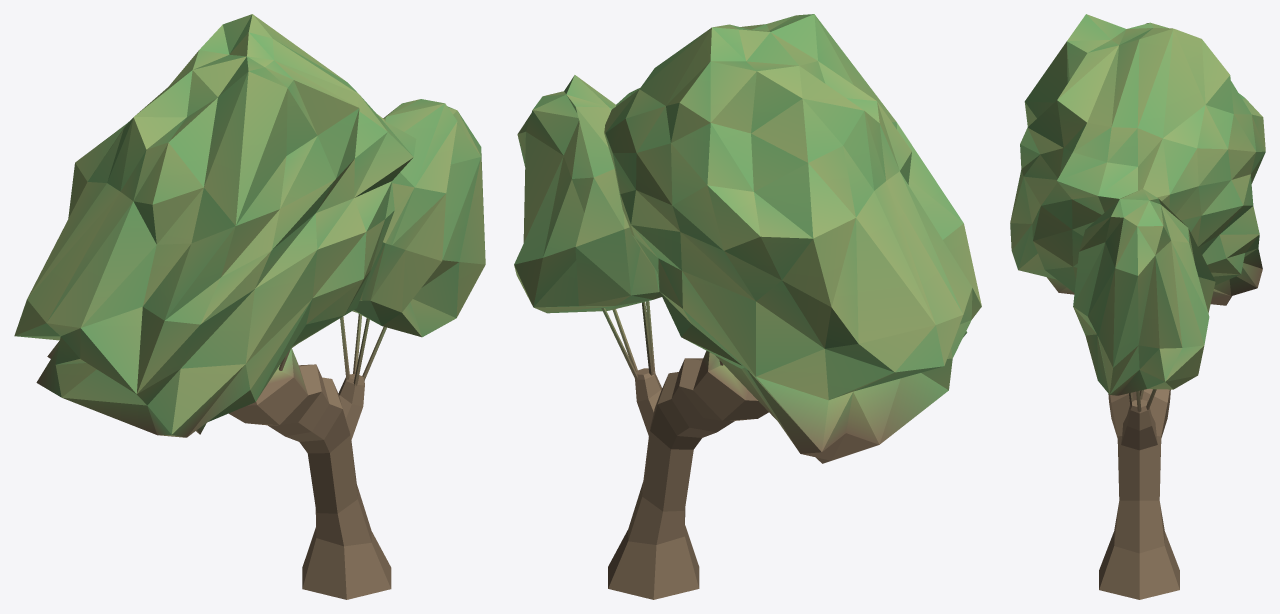
File: m_willow.glb
3 renders of one model, left to right at view 1: azimuth 30°, elevation 25°; view 2: azimuth 150°, elevation 25°; view 3: azimuth 270°, elevation 25°, orthographic. The views are drawn at different scales.
Parts seen in each view (by area): view 1: PollardWillowTree_mesh; view 2: PollardWillowTree_mesh; view 3: PollardWillowTree_mesh.
Boxes of the visible parts, x1=… form: PollardWillowTree_mesh: x1=14, y1=14, x2=485, y2=599; PollardWillowTree_mesh: x1=514, y1=14, x2=981, y2=599; PollardWillowTree_mesh: x1=1010, y1=14, x2=1265, y2=599.
Size of the model in its own units: 9.97 by 12.27 by 5.49.
